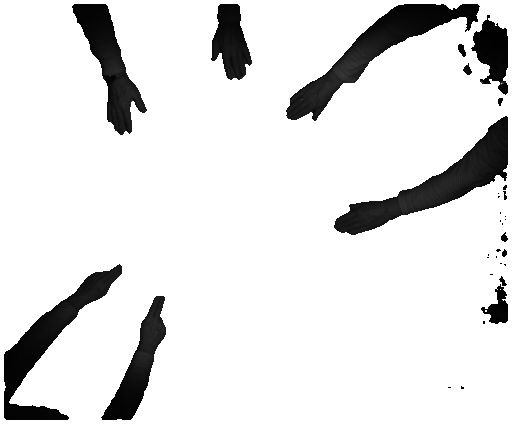hand: (280, 77, 336, 127), (208, 26, 255, 79), (335, 198, 395, 239), (73, 264, 127, 309), (106, 84, 151, 135), (140, 296, 167, 352)
